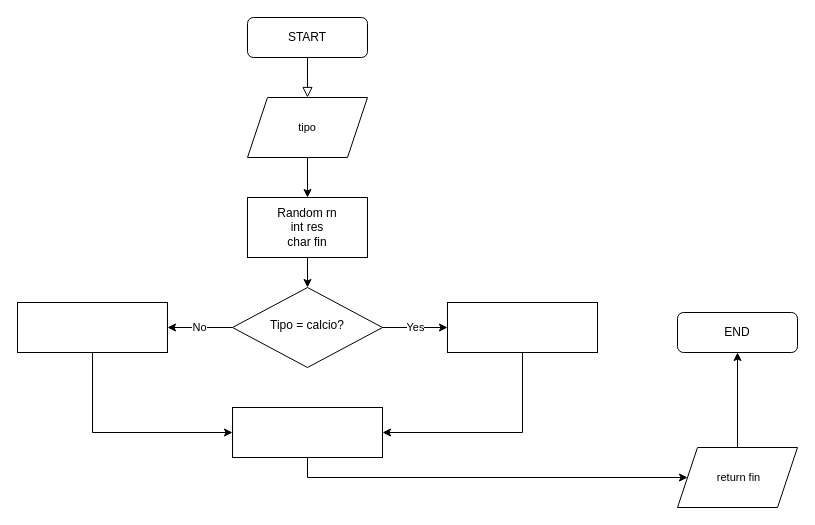
Image size: 815x525. Some labels were removed from this diagram. The shapes that lost their labels are listed below. From the top down, each one's box as (x1, y1, x2, y2) in pixels, then its label:
(16, 302, 168, 352): randomizzo l'evento per i restanti sport
(446, 302, 598, 352): randomizzo l'evento per calcio
(232, 406, 382, 458): fin = res
